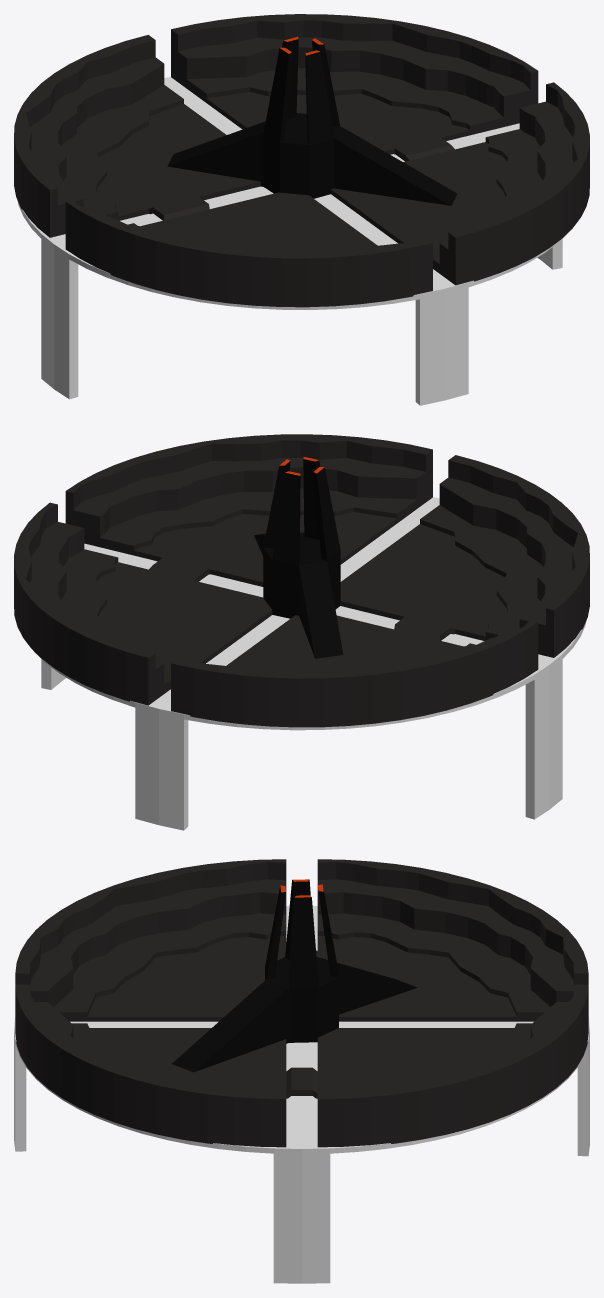
File: FireArena3.fbx
3 renders of one model, top to bottom at view 1: azimuth 30°, elevation 25°; view 2: azimuth 150°, elevation 25°; view 3: azimuth 270°, elevation 25°, orthographic.
Parts seen in each view (by area): view 1: MainPlatform, Lava, Cylinder; view 2: MainPlatform, Lava, Cylinder; view 3: MainPlatform, Lava, Cylinder.
Boxes of the visible parts, <box> form: MainPlatform: <box>14,14,589,307</box>; Lava: <box>17,76,569,405</box>; Cylinder: <box>167,36,457,205</box>; MainPlatform: <box>14,434,589,727</box>; Lava: <box>33,497,586,830</box>; Cylinder: <box>254,457,343,658</box>; MainPlatform: <box>15,859,588,1147</box>; Lava: <box>14,906,589,1283</box>; Cylinder: <box>172,879,417,1072</box>.
Size of the model in its own units: 1471 by 803 by 1471.
